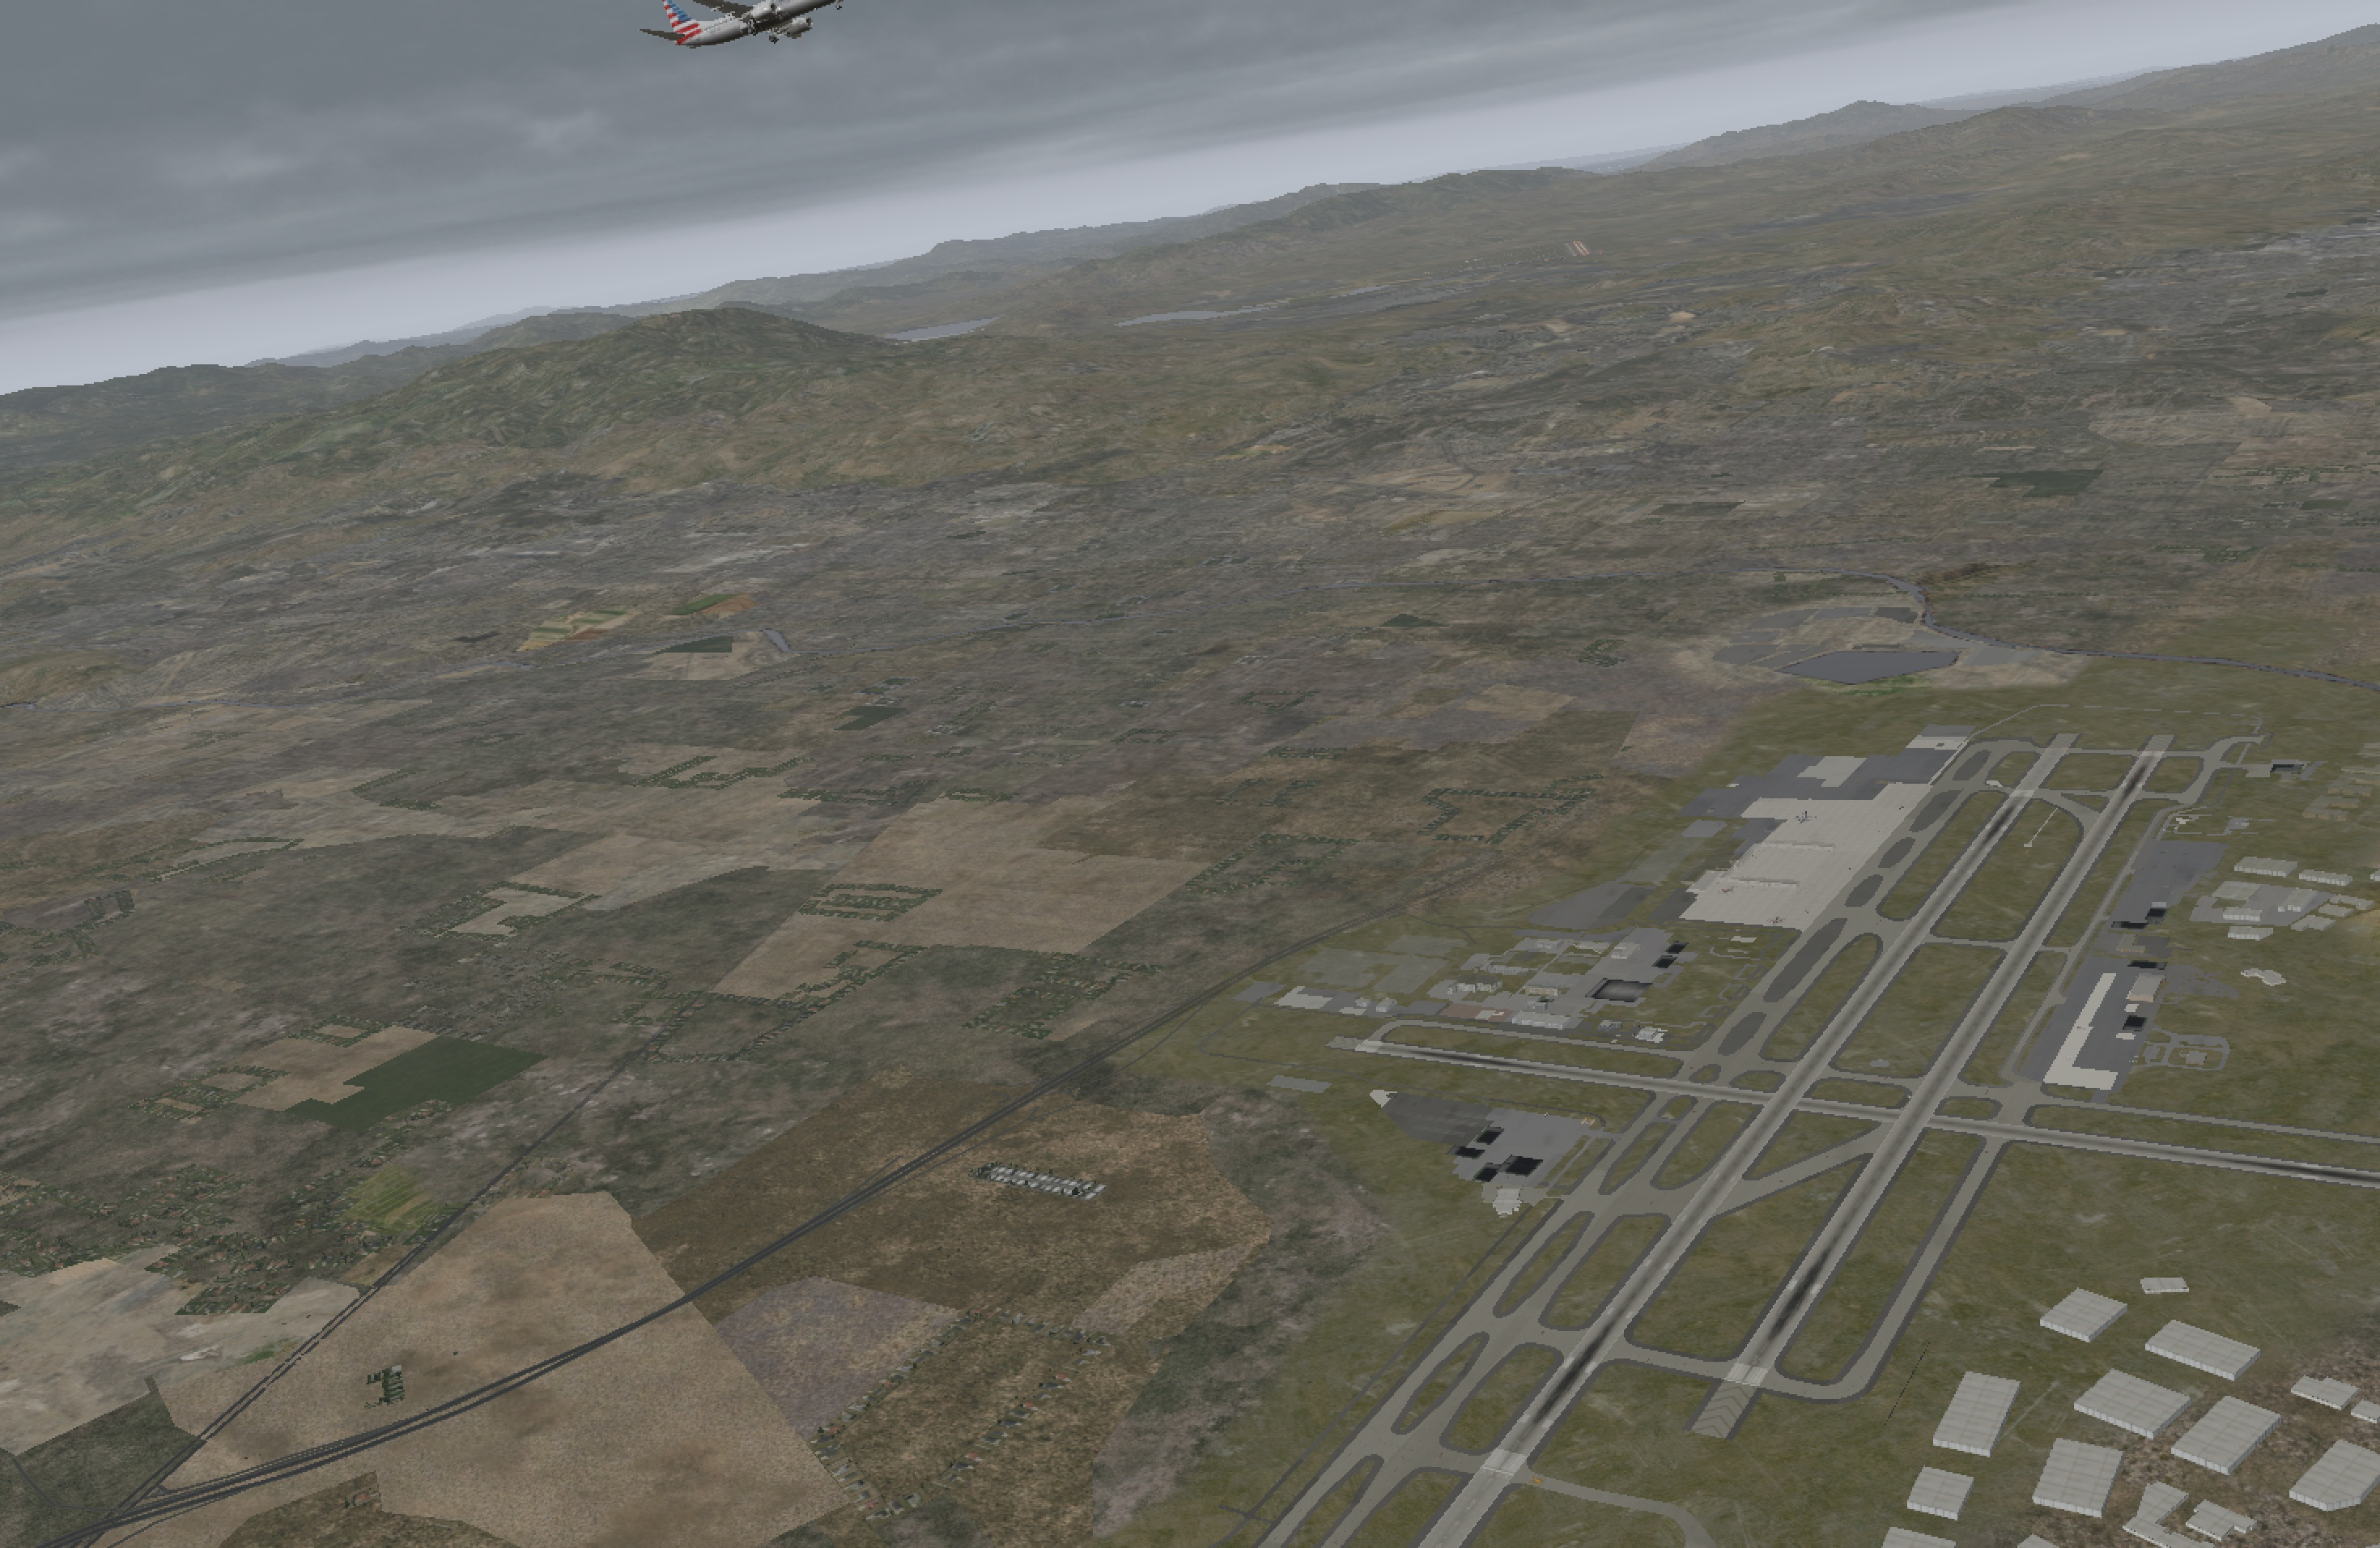aircraft: (659, 0, 876, 59)
